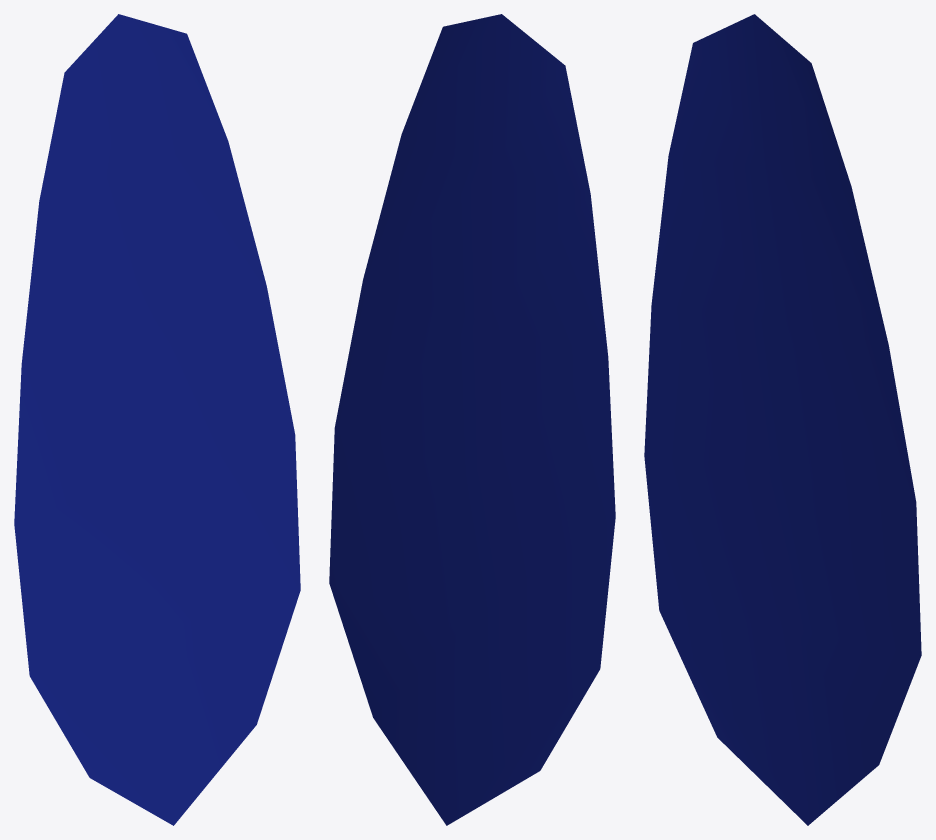
The model's file is lovebird_feather_flight_secondary_022.001.obj.
The picture shows the model from 3 angles, left to right: view 1: azimuth 30°, elevation 25°; view 2: azimuth 150°, elevation 25°; view 3: azimuth 330°, elevation 25°; orthographic projection. The views are drawn at different scales.
Parts seen in each view (by area): view 1: feather_flight_secondary_022.001; view 2: feather_flight_secondary_022.001; view 3: feather_flight_secondary_022.001.
Part boxes in pixels (box(x1,y1,x2,y2)): feather_flight_secondary_022.001: box(14, 14, 300, 825); feather_flight_secondary_022.001: box(329, 14, 615, 825); feather_flight_secondary_022.001: box(644, 14, 921, 825).
Size of the model in its own units: 0.00553 by 0.0152 by 0.00016.
